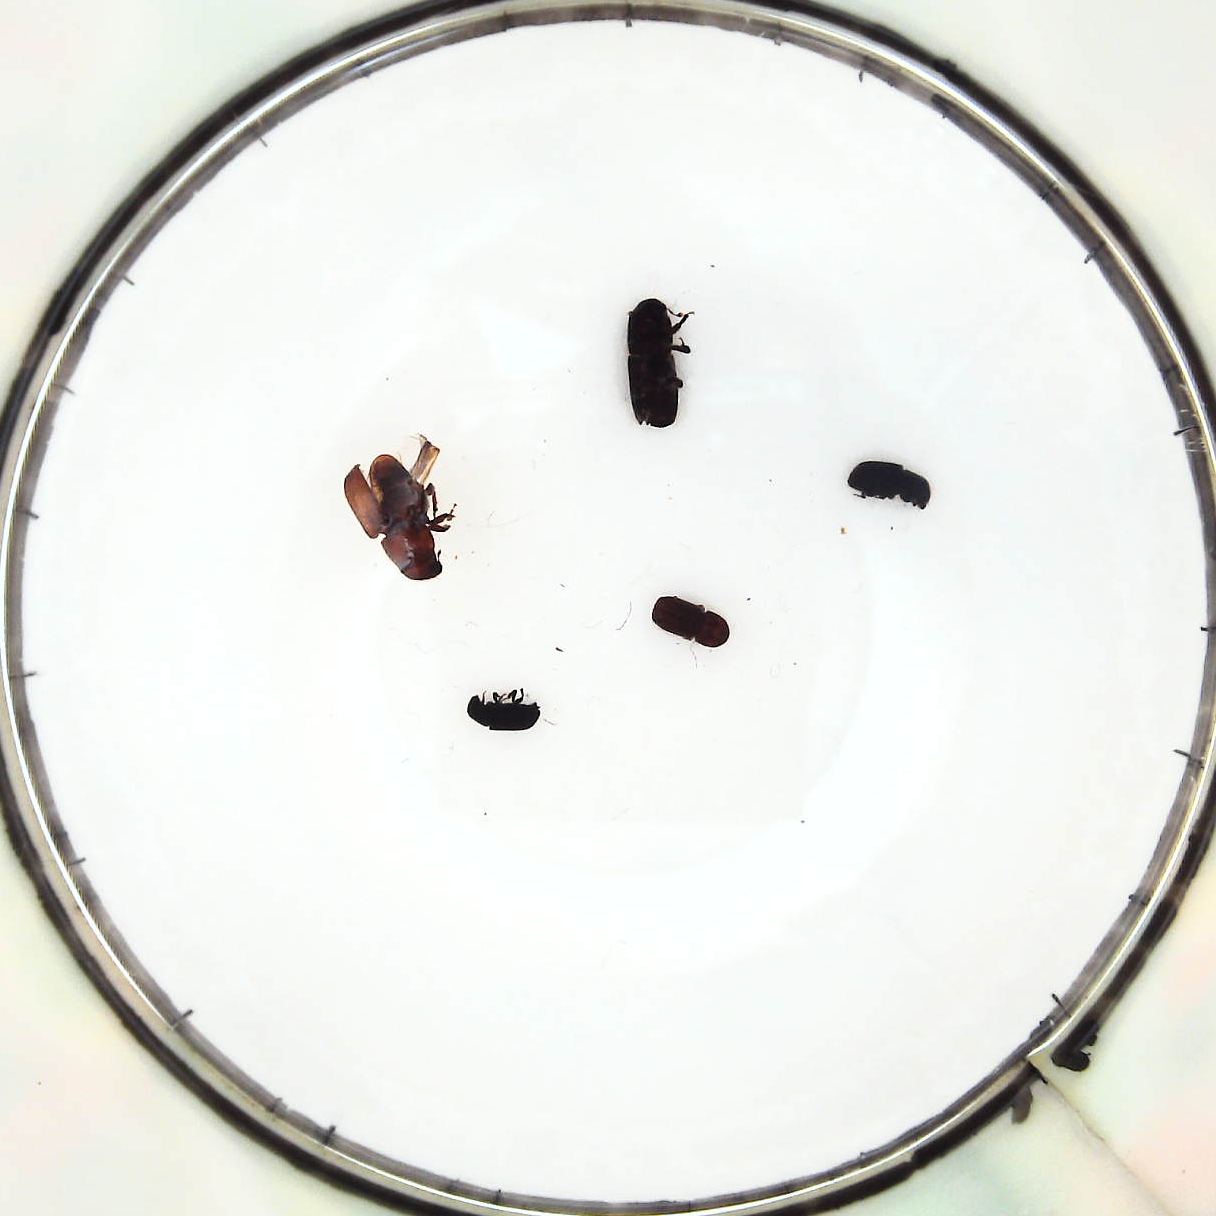Boerner: (622, 296, 689, 430)
Leconte: (342, 437, 452, 581)
Linnaeus: (647, 594, 725, 645)
armandi: (845, 455, 942, 513)
coleoptera: (467, 689, 537, 735)
